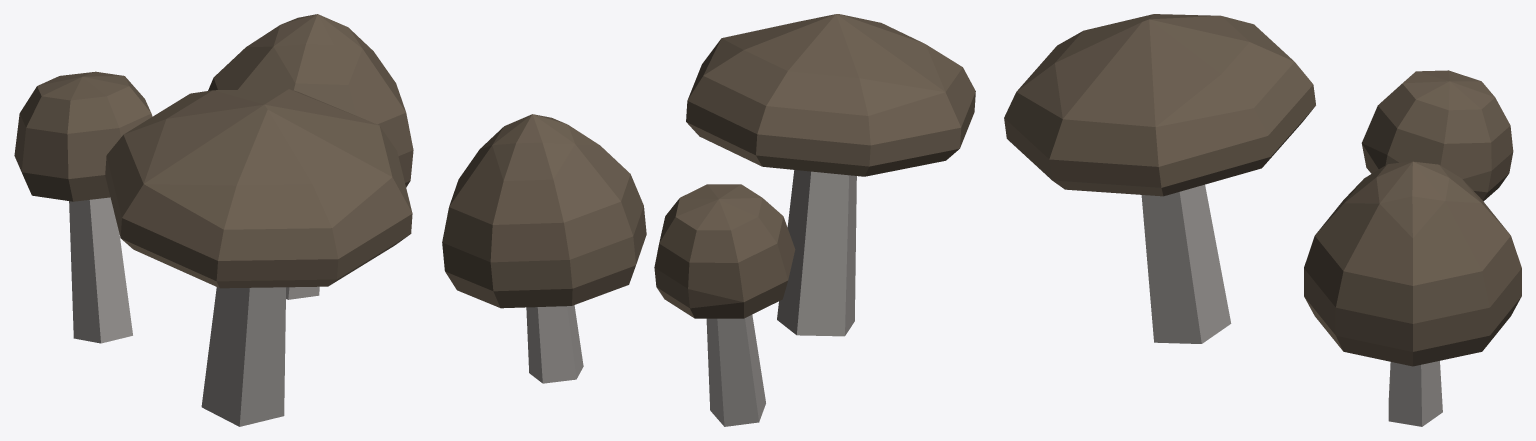
File: SM_Envr_Nature_Plant_Mushroom_02.fbx
The picture shows the model from 3 angles, left to right: view 1: azimuth 30°, elevation 25°; view 2: azimuth 150°, elevation 25°; view 3: azimuth 270°, elevation 25°; orthographic projection. The views are drawn at different scales.
Visible parts, largest first — view 1: SM_Envr_Nature_Plant_Mushroom_02; view 2: SM_Envr_Nature_Plant_Mushroom_02; view 3: SM_Envr_Nature_Plant_Mushroom_02.
Part boxes in pixels (x1=…): SM_Envr_Nature_Plant_Mushroom_02: x1=14, y1=14, x2=413, y2=426; SM_Envr_Nature_Plant_Mushroom_02: x1=442, y1=14, x2=975, y2=426; SM_Envr_Nature_Plant_Mushroom_02: x1=1004, y1=14, x2=1521, y2=426.
Size of the model in its own units: 58.26 by 44.08 by 65.
